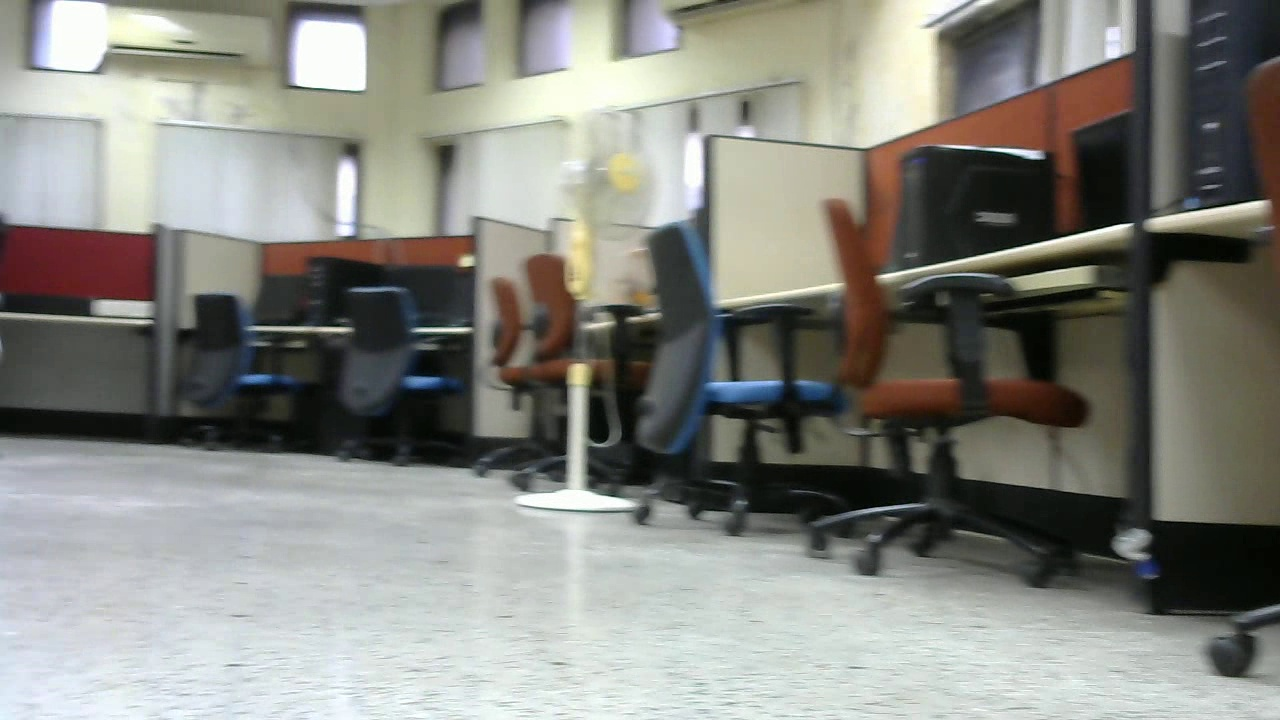chair: (809, 197, 1090, 588), (624, 220, 850, 540), (472, 249, 651, 496), (333, 285, 479, 469), (179, 290, 312, 462)
